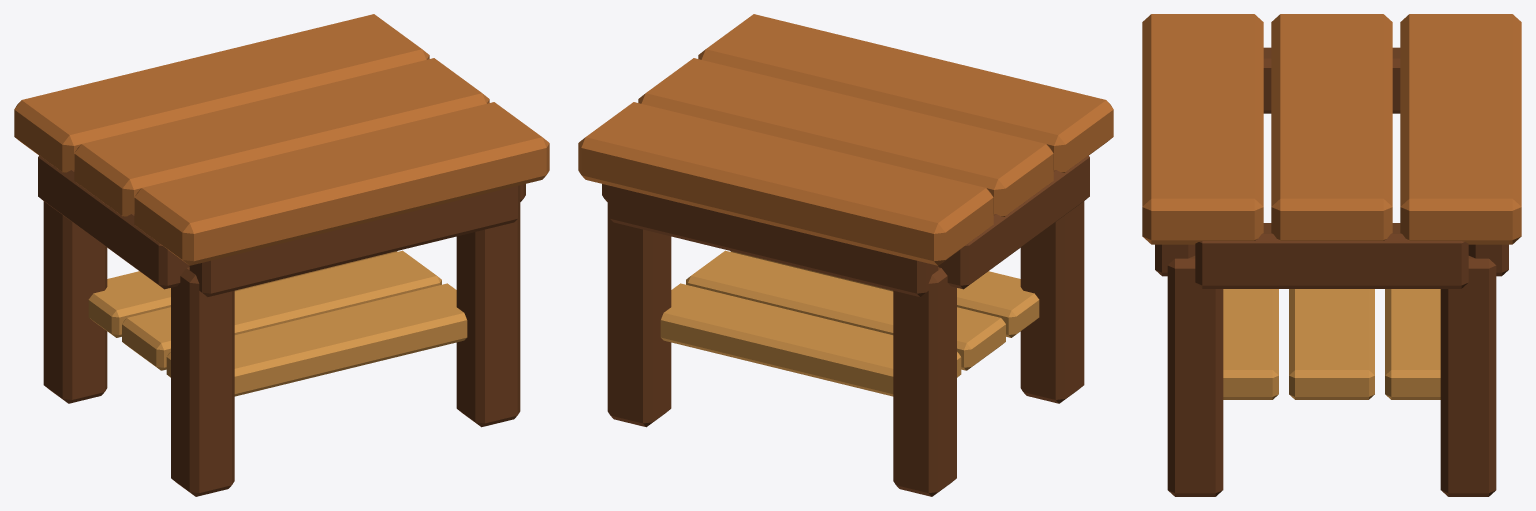
Rendered from OutletDisplayTable.glb.
3 renders of one model, left to right at view 1: azimuth 30°, elevation 25°; view 2: azimuth 150°, elevation 25°; view 3: azimuth 270°, elevation 25°, orthographic. The views are drawn at different scales.
Parts seen in each view (by area): view 1: OutletDisplayTable_TopPlanks, OutletDisplayTable_Frame, OutletDisplayTable_LowerShelf; view 2: OutletDisplayTable_TopPlanks, OutletDisplayTable_Frame, OutletDisplayTable_LowerShelf; view 3: OutletDisplayTable_TopPlanks, OutletDisplayTable_Frame, OutletDisplayTable_LowerShelf.
Part boxes in pixels (x1=…): OutletDisplayTable_TopPlanks: x1=14, y1=14, x2=549, y2=265; OutletDisplayTable_Frame: x1=38, y1=155, x2=525, y2=496; OutletDisplayTable_LowerShelf: x1=88, y1=250, x2=467, y2=396; OutletDisplayTable_TopPlanks: x1=578, y1=14, x2=1113, y2=265; OutletDisplayTable_Frame: x1=602, y1=155, x2=1089, y2=496; OutletDisplayTable_LowerShelf: x1=660, y1=250, x2=1039, y2=396; OutletDisplayTable_TopPlanks: x1=1142, y1=14, x2=1521, y2=244; OutletDisplayTable_Frame: x1=1155, y1=47, x2=1508, y2=496; OutletDisplayTable_LowerShelf: x1=1223, y1=289, x2=1440, y2=399.
Size of the model in its own units: 0.9 by 0.67 by 0.75.
